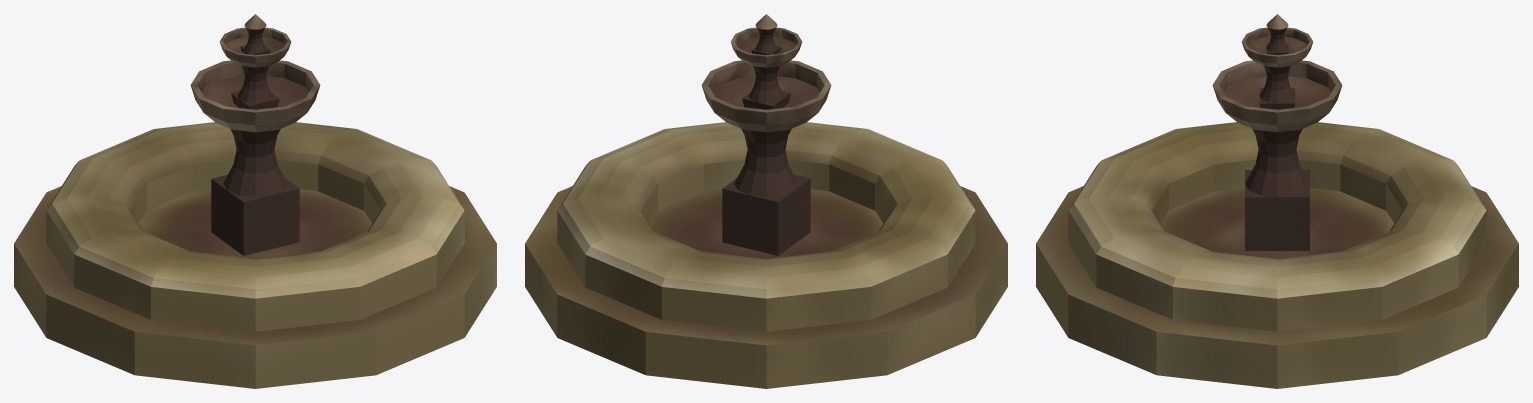
The model's file is fountain.obj.
3 renders of one model, left to right at view 1: azimuth 30°, elevation 25°; view 2: azimuth 150°, elevation 25°; view 3: azimuth 270°, elevation 25°, orthographic.
Parts seen in each view (by area): view 1: fountain; view 2: fountain; view 3: fountain.
Boxes of the visible parts, x1,y1,x2,y2 form: fountain: [14, 14, 496, 388]; fountain: [525, 14, 1007, 388]; fountain: [1036, 14, 1518, 388].
Size of the model in its own units: 8 by 4.99 by 8.
